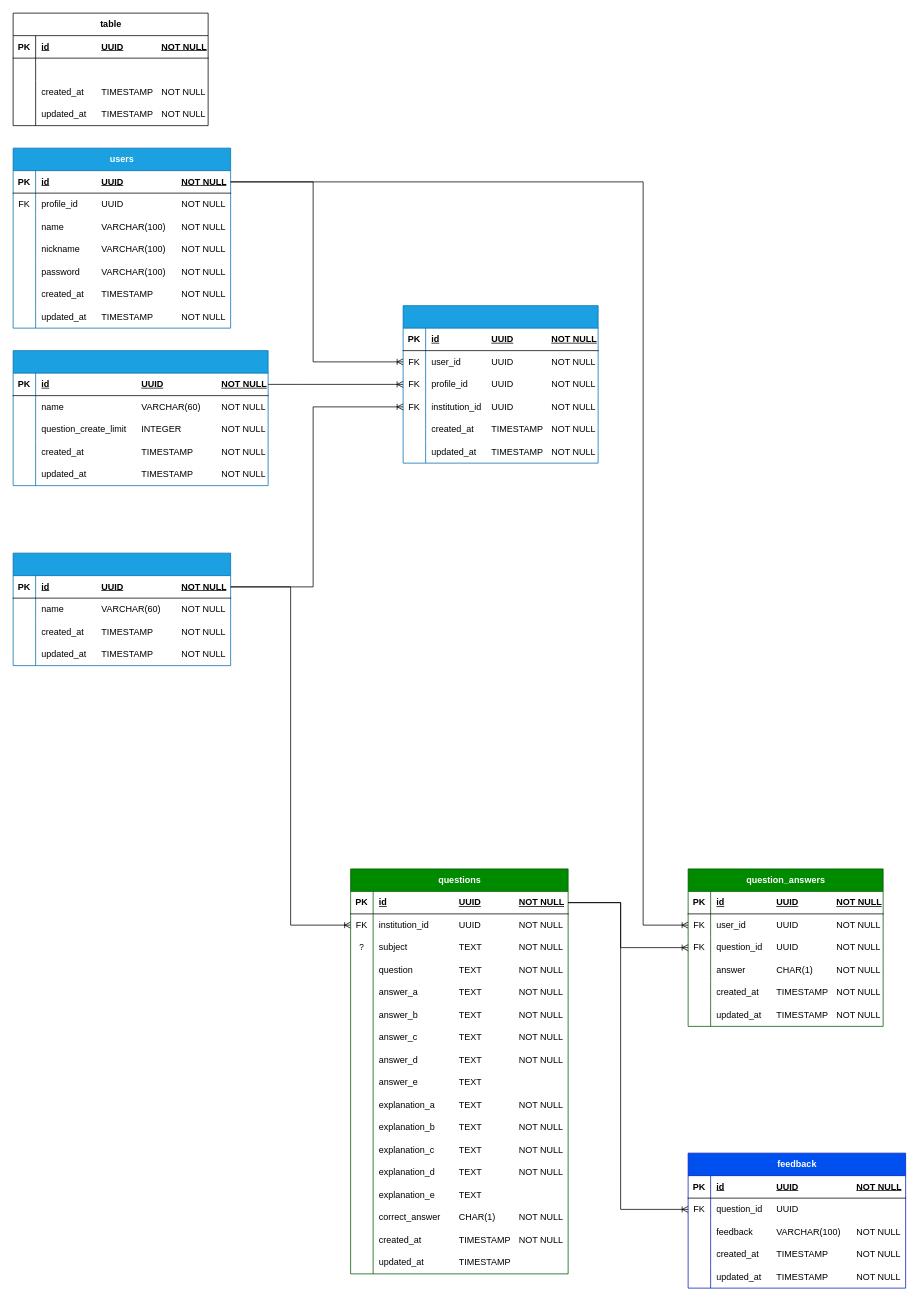
The diagram is 919 pixels wide and 1301 high, and some of its shapes have lost their labels. Each missing label, with the box of its shape:
institutions: (12, 552, 231, 666)
profiles: (12, 350, 268, 486)
user_institutions: (402, 305, 598, 463)
